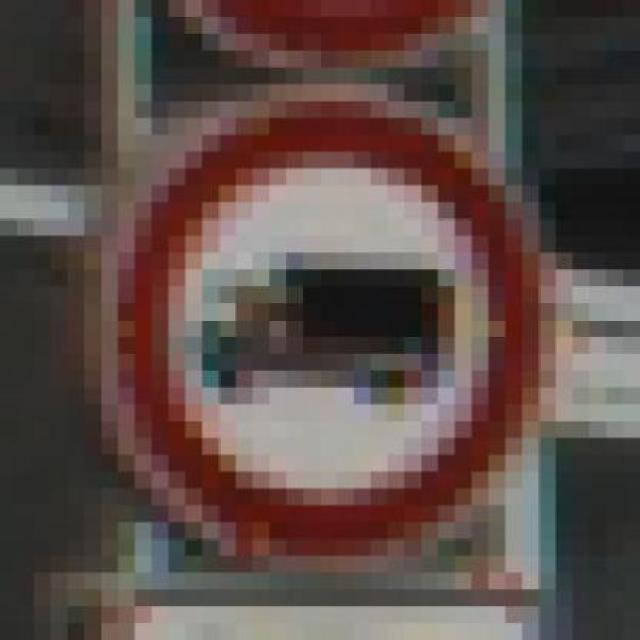Truck traffic is prohibited: (84, 67, 590, 624)
